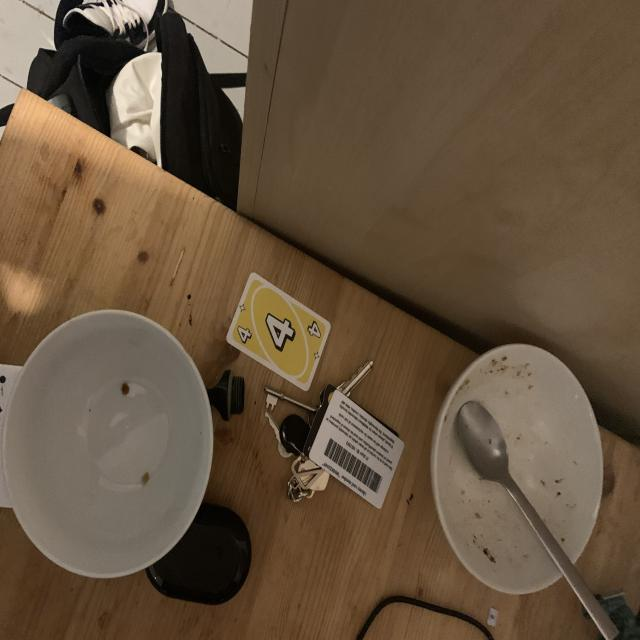lyellow-4: (234, 322, 254, 348)
